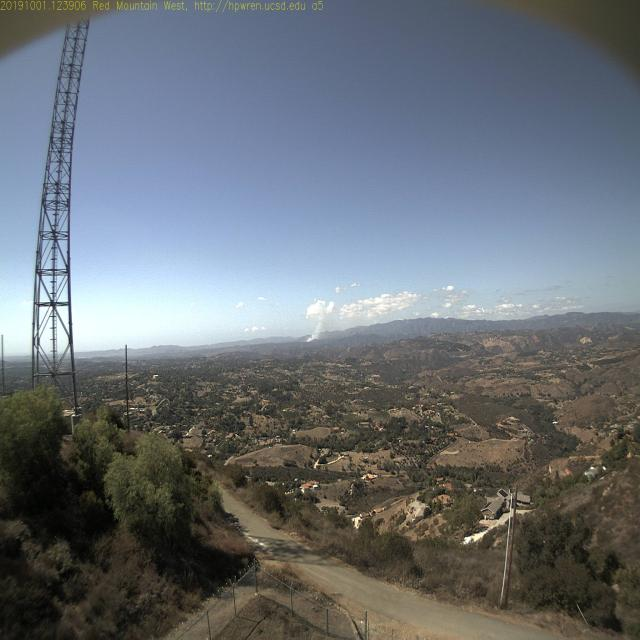smoke: (296, 314, 335, 346)
